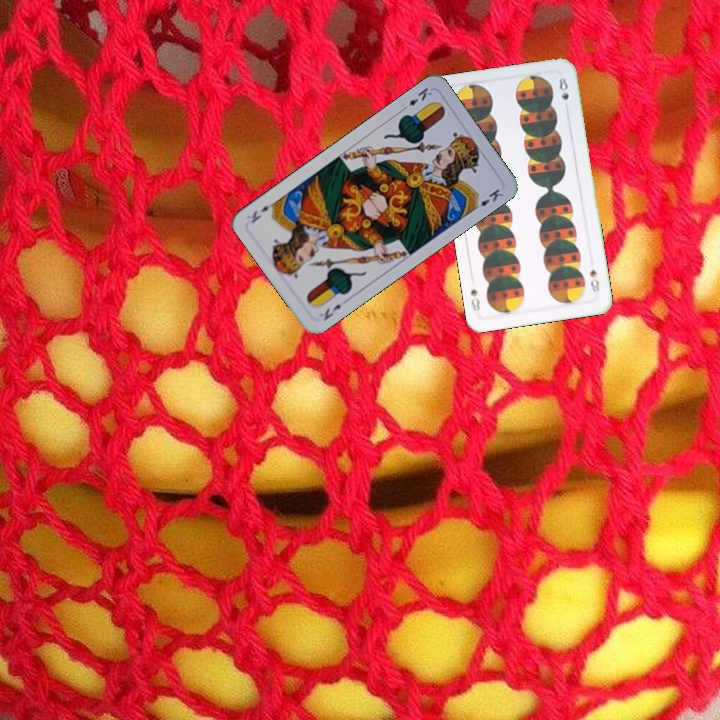EK: (397, 83, 435, 114), (319, 300, 344, 324)
S8: (585, 266, 602, 297)
